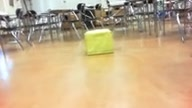cube: (84, 29, 114, 55)
